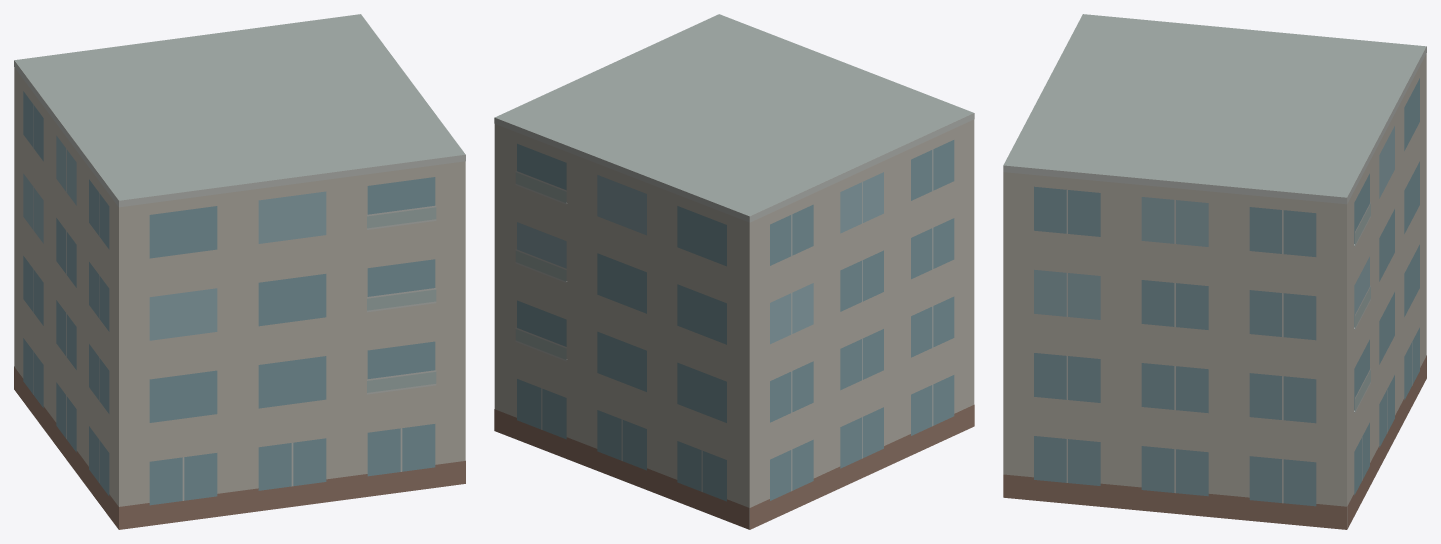
File: residential-196327d1-2c20-4bd1-8e25-9f5c0e09d5aa.glb
3 renders of one model, left to right at view 1: azimuth 30°, elevation 25°; view 2: azimuth 150°, elevation 25°; view 3: azimuth 270°, elevation 25°, orthographic. The views are drawn at different scales.
Parts seen in each view (by area): view 1: residential-196327d1-2c20-4bd1-8e25-9f5c0e09d5aa.tmp; view 2: residential-196327d1-2c20-4bd1-8e25-9f5c0e09d5aa.tmp; view 3: residential-196327d1-2c20-4bd1-8e25-9f5c0e09d5aa.tmp.
Boxes of the visible parts, left/top/right/bottom form: residential-196327d1-2c20-4bd1-8e25-9f5c0e09d5aa.tmp: left=14, top=14, right=465, bottom=529; residential-196327d1-2c20-4bd1-8e25-9f5c0e09d5aa.tmp: left=494, top=14, right=974, bottom=529; residential-196327d1-2c20-4bd1-8e25-9f5c0e09d5aa.tmp: left=1003, top=14, right=1426, bottom=529.
Size of the model in its own units: 14.48 by 12.2 by 14.1.
